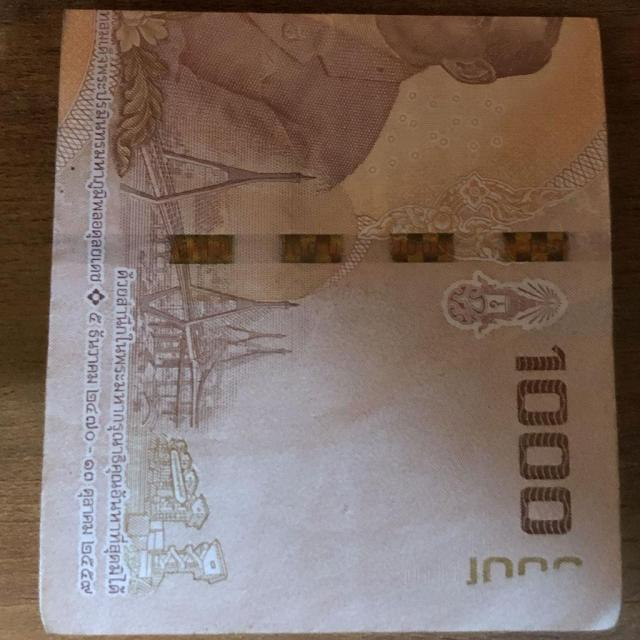THAI1000: (37, 10, 624, 639)
